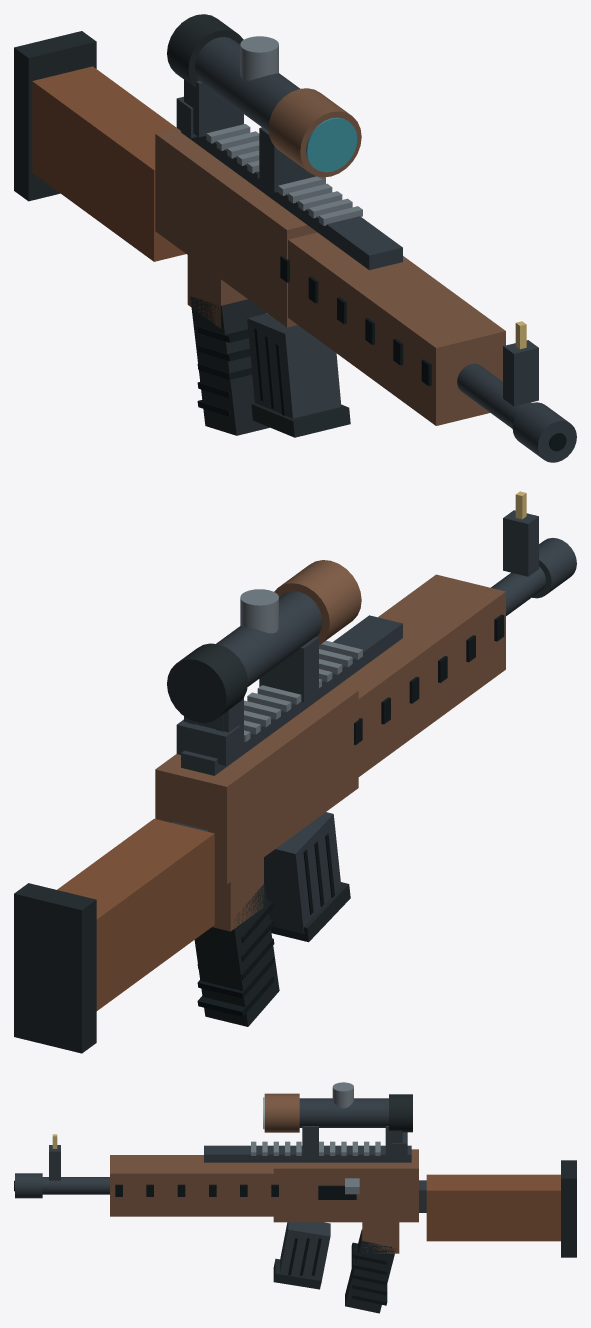
Rendered from dmr_01_ranger.glb.
3 renders of one model, top to bottom at view 1: azimuth 30°, elevation 25°; view 2: azimuth 150°, elevation 25°; view 3: azimuth 270°, elevation 25°, orthographic. The views are drawn at different scales.
Parts seen in each view (by area): view 1: handguard, stock_body, receiver, magazine, grip, buttpad, scope_tube, upper_rail, scope_objective, muzzle_device, scope_eyepiece, scope_lens (+8 smaller); view 2: receiver, handguard, stock_body, buttpad, grip, magazine, scope_eyepiece, scope_tube, upper_rail, scope_objective, grip_tang, optic_mount_front (+7 smaller); view 3: handguard, stock_body, receiver, upper_rail, scope_tube, magazine, grip, buttpad, scope_objective, barrel, grip_tang, scope_eyepiece (+8 smaller).
Boxes of the visible parts, left/top/right/bottom form: handguard: left=288, top=232, right=505, bottom=425; stock_body: left=32, top=66, right=185, bottom=261; receiver: left=155, top=128, right=317, bottom=327; magazine: left=247, top=313, right=341, bottom=418; grip: left=190, top=296, right=269, bottom=435; buttpad: left=14, top=31, right=96, bottom=201; scope_tube: left=195, top=37, right=300, bottom=130; upper_rail: left=181, top=131, right=402, bottom=270; scope_objective: left=268, top=88, right=361, bottom=177; muzzle_device: left=512, top=402, right=576, bottom=462; scope_eyepiece: left=167, top=14, right=243, bottom=87; scope_lens: left=306, top=117, right=357, bottom=172; receiver: left=155, top=685, right=358, bottom=884; handguard: left=338, top=574, right=505, bottom=776; stock_body: left=57, top=818, right=214, bottom=1010; buttpad: left=14, top=883, right=96, bottom=1053; grip: left=194, top=883, right=279, bottom=1026; magazine: left=264, top=812, right=341, bottom=934; scope_eyepiece: left=167, top=643, right=247, bottom=723; scope_tube: left=216, top=591, right=322, bottom=686; upper_rail: left=181, top=615, right=402, bottom=775; scope_objective: left=274, top=560, right=361, bottom=644; grip_tang: left=212, top=857, right=263, bottom=931; optic_mount_front: left=259, top=636, right=318, bottom=701; handguard: left=110, top=1155, right=273, bottom=1216; stock_body: left=426, top=1174, right=560, bottom=1241; receiver: left=273, top=1149, right=418, bottom=1222; upper_rail: left=204, top=1145, right=411, bottom=1162; scope_tube: left=299, top=1098, right=388, bottom=1127; magazine: left=280, top=1222, right=330, bottom=1282; grip: left=345, top=1229, right=395, bottom=1313; buttpad: left=561, top=1160, right=576, bottom=1257; scope_objective: left=264, top=1093, right=299, bottom=1132; barrel: left=42, top=1177, right=109, bottom=1194; grip_tang: left=362, top=1222, right=399, bottom=1253; scope_eyepiece: left=389, top=1094, right=412, bottom=1132.
Bounding box in the file's own units: 0.113 × 0.4106 × 0.9485.
